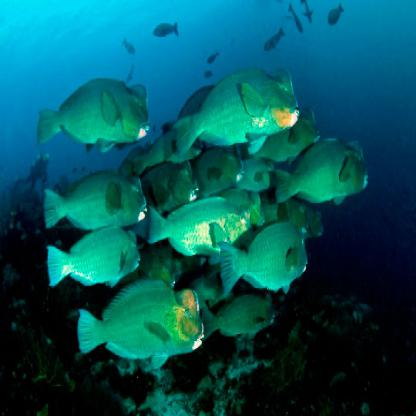parrot: (175, 62, 303, 160), (76, 277, 210, 365), (34, 76, 154, 152), (269, 127, 372, 211), (216, 215, 308, 302), (143, 193, 253, 264), (42, 167, 148, 236), (43, 226, 143, 285)
